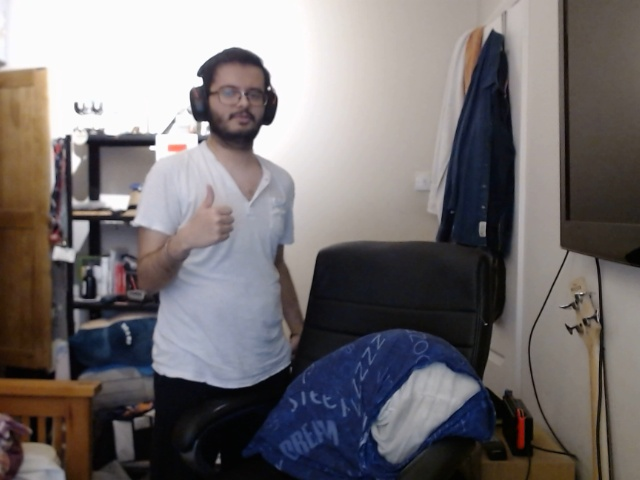Thumbs up: (184, 182, 238, 270)
